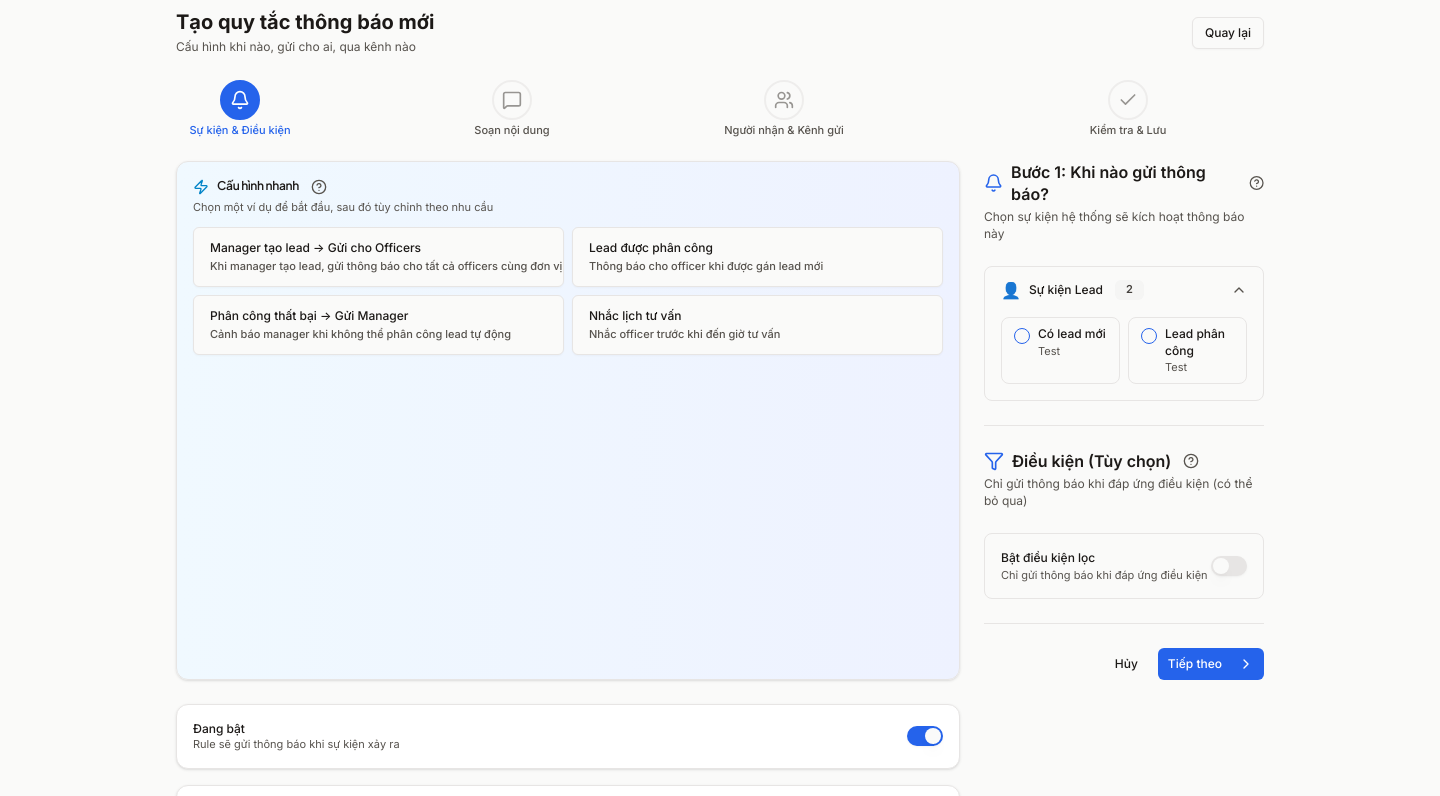
Test: NotificationRuleEditor — step navigation › navigates through all 4 steps using quick template
# Quick template → step 2
Click the text "Lead được phân công" at x=651, y=247, box [589,240,713,254]
(page scrolled)
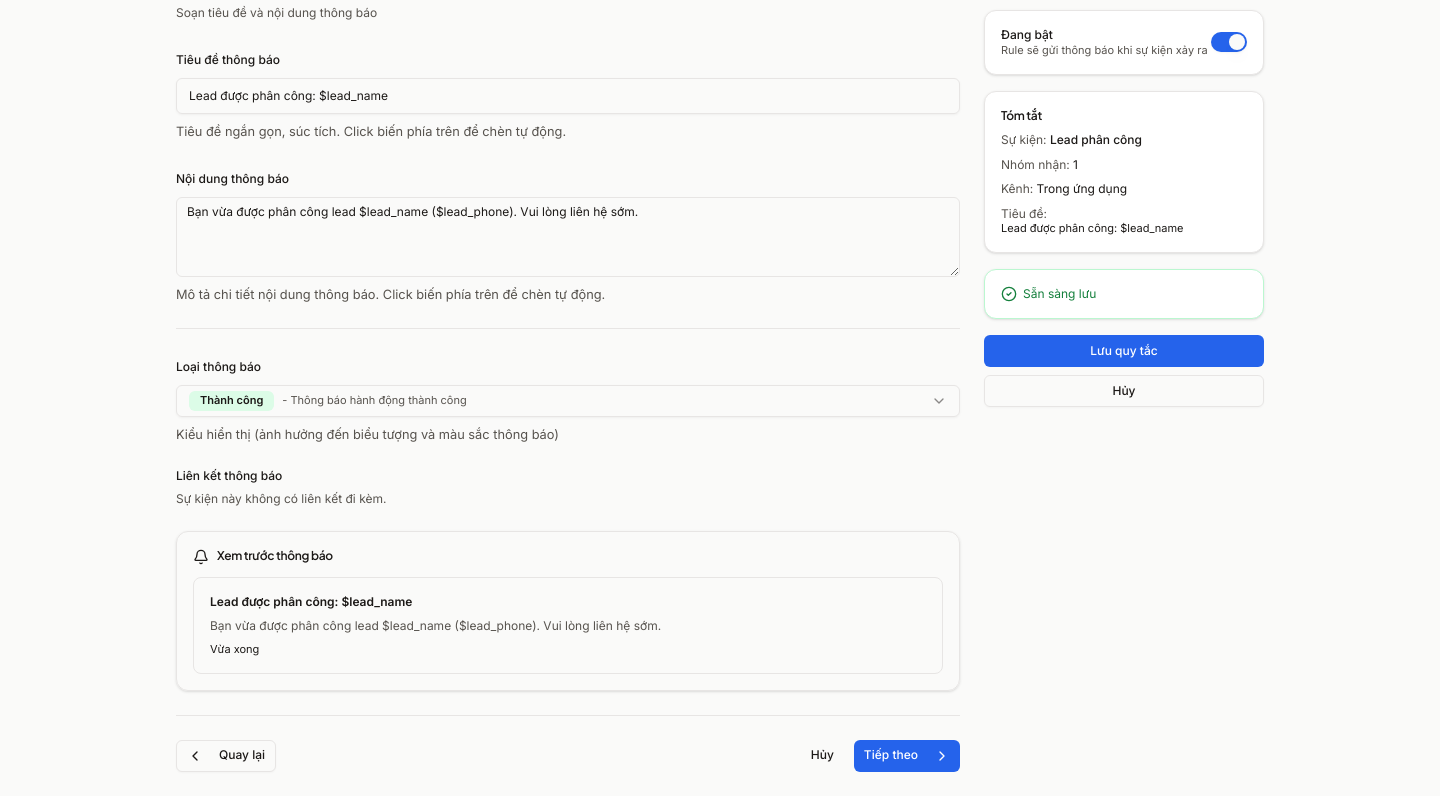
# Step 2 → 3 → 4 (quick template pre-fills all fields)
Click the button "Tiếp theo" at x=907, y=756, box [854,740,960,772]
(page scrolled)
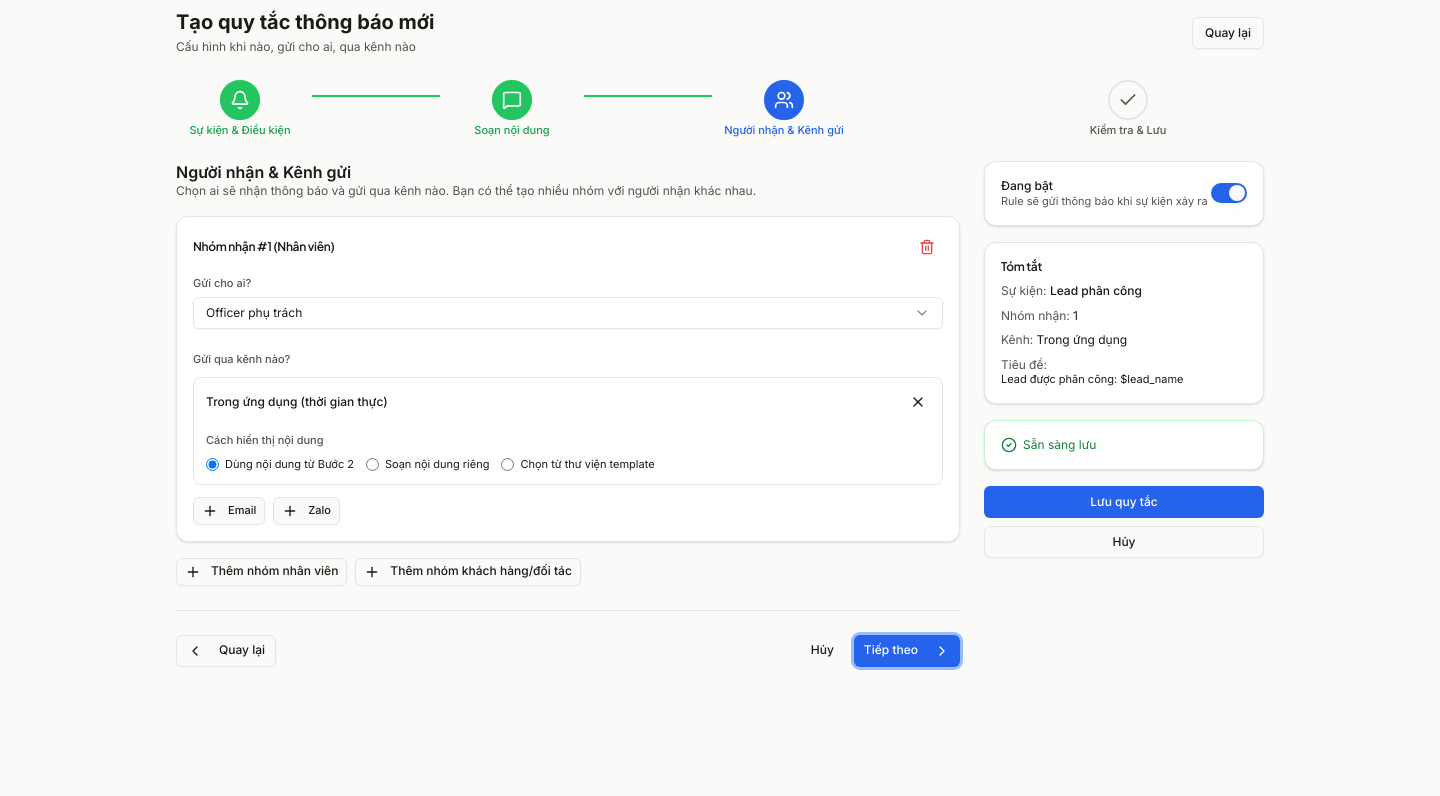
Click the button "Tiếp theo" at x=907, y=650, box [854,634,960,666]
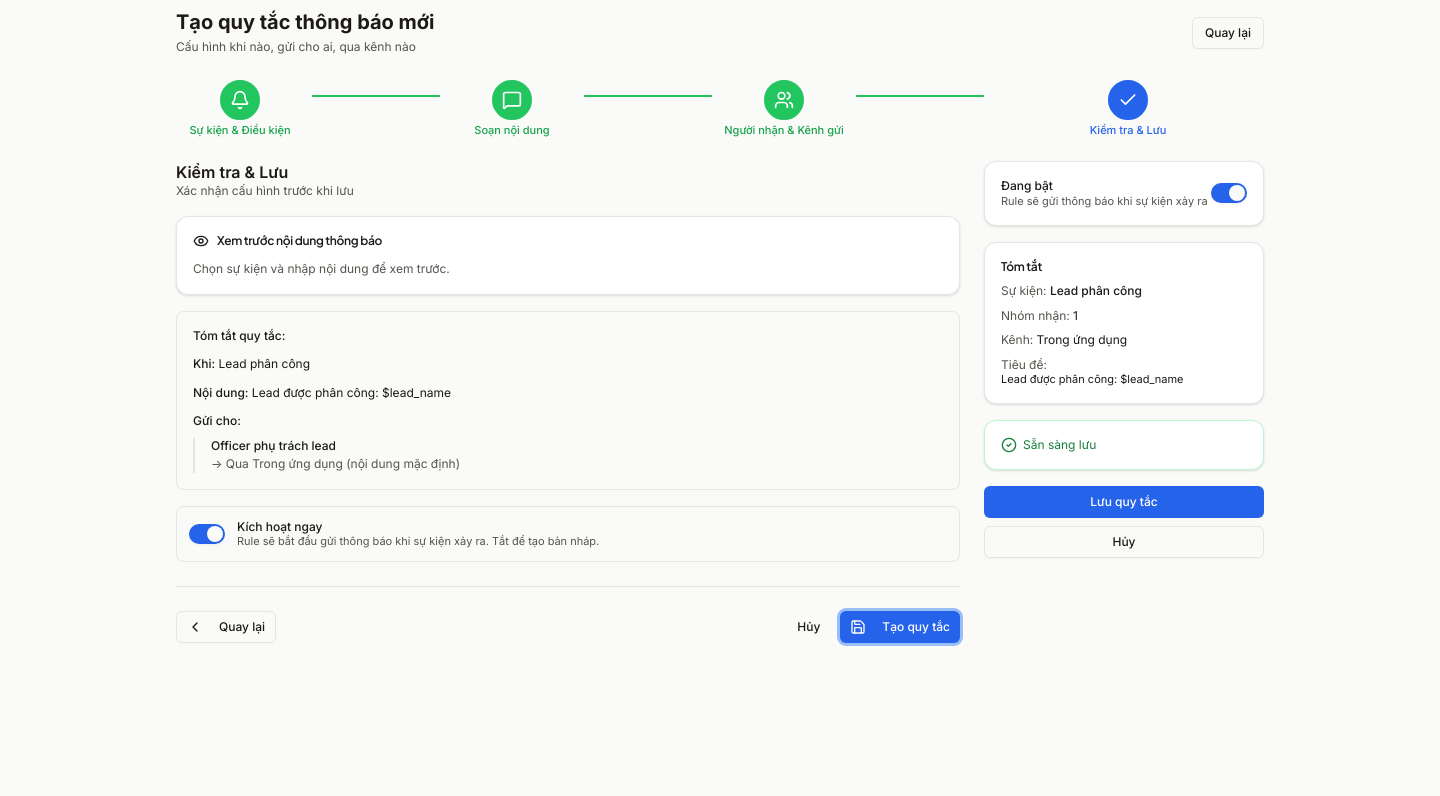
Expected: the text "Tóm tắt quy tắc:" is shown, [193,328,285,343]
Expected: the text "Kích hoạt ngay" is shown, [237,519,322,534]
